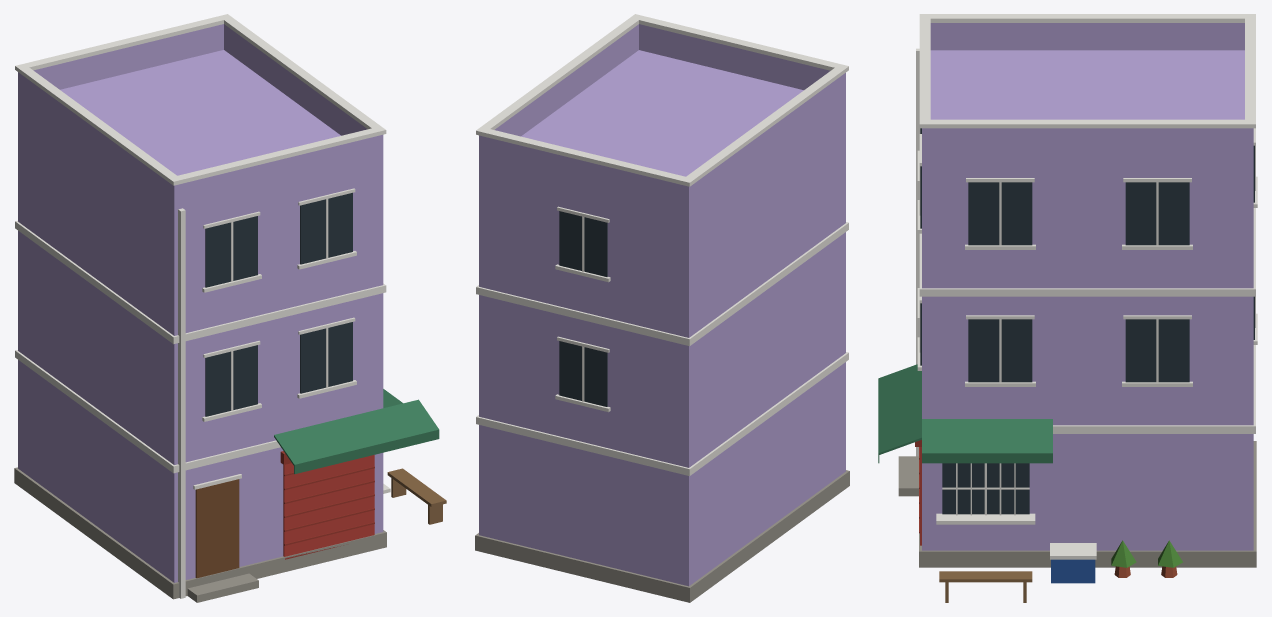
The model's file is BAY_F_Corner_H.glb.
The picture shows the model from 3 angles, left to right: view 1: azimuth 30°, elevation 25°; view 2: azimuth 150°, elevation 25°; view 3: azimuth 270°, elevation 25°; orthographic projection. The views are drawn at different scales.
Visible parts, largest first — view 1: BAY_F_Corner_H; view 2: BAY_F_Corner_H; view 3: BAY_F_Corner_H.
Part boxes in pixels (bbox=[...]): BAY_F_Corner_H: bbox=[14, 14, 446, 602]; BAY_F_Corner_H: bbox=[475, 14, 849, 602]; BAY_F_Corner_H: bbox=[878, 14, 1257, 602].
Bounding box in the file's own units: 5.96 × 8.4 × 6.52.
1 material, 1 textured.
